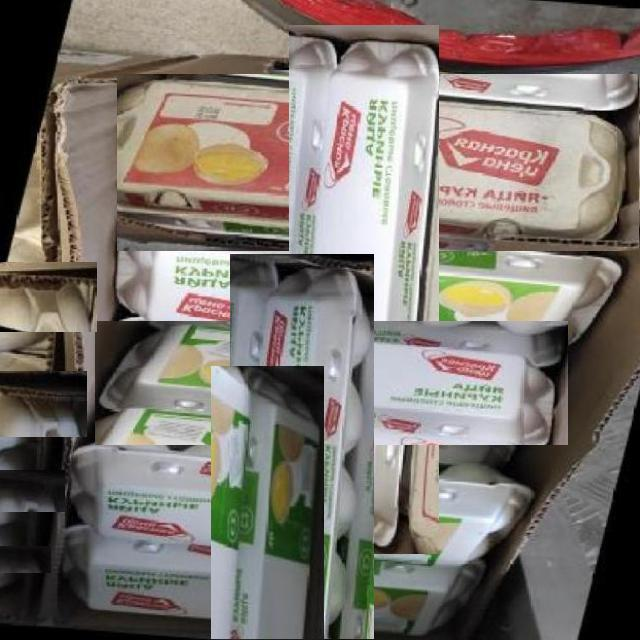Egg: (116, 73, 640, 251), (288, 25, 439, 554), (95, 321, 568, 445), (230, 255, 374, 640), (212, 366, 324, 640), (0, 261, 97, 332), (0, 371, 87, 437), (0, 469, 65, 512), (0, 546, 51, 573)
